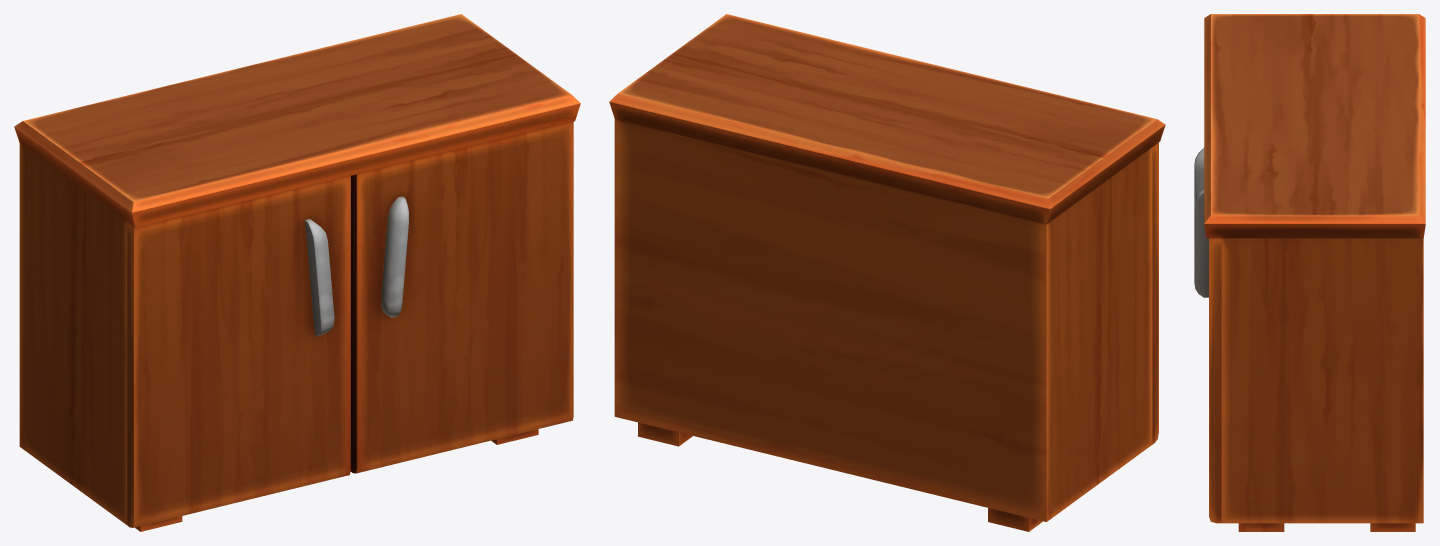
The model's file is KitchenFurniture01_3.FBX.
The picture shows the model from 3 angles, left to right: view 1: azimuth 30°, elevation 25°; view 2: azimuth 150°, elevation 25°; view 3: azimuth 270°, elevation 25°; orthographic projection. The views are drawn at different scales.
Parts seen in each view (by area): view 1: KitchenFurniture01_3; view 2: KitchenFurniture01_3; view 3: KitchenFurniture01_3.
Boxes of the visible parts, box(x1,y1,x2,y2) form: KitchenFurniture01_3: box(14, 14, 580, 531); KitchenFurniture01_3: box(609, 14, 1165, 531); KitchenFurniture01_3: box(1194, 14, 1425, 531).
Size of what is drawn, in the model's own units: 1.32 by 0.9759 by 0.6296.
